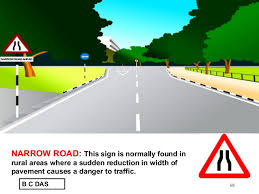Narrow_road: (198, 134, 251, 179), (2, 35, 31, 52)
